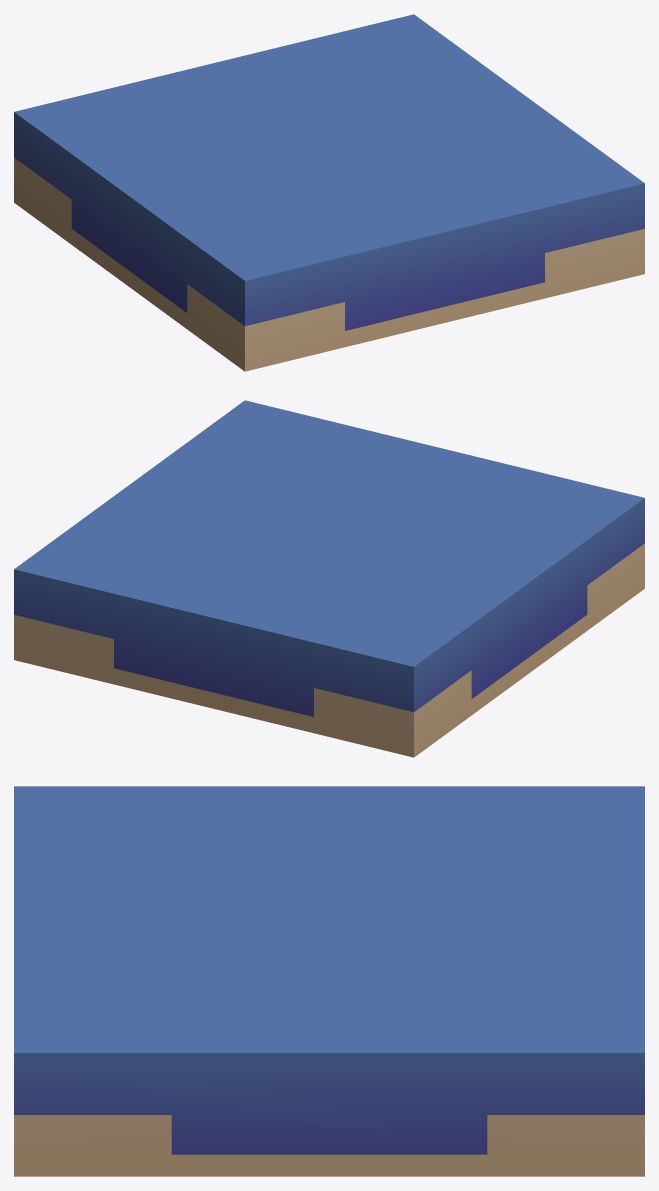
File: tower-square-mid-color.glb
3 renders of one model, top to bottom at view 1: azimuth 30°, elevation 25°; view 2: azimuth 150°, elevation 25°; view 3: azimuth 270°, elevation 25°, orthographic. The views are drawn at different scales.
Parts seen in each view (by area): view 1: tower-square-mid-color; view 2: tower-square-mid-color; view 3: tower-square-mid-color.
Boxes of the visible parts, <box> form: tower-square-mid-color: <box>14,14,644,371</box>; tower-square-mid-color: <box>14,400,644,757</box>; tower-square-mid-color: <box>14,786,644,1176</box>.
Bounding box in the file's own units: 0.93 × 0.2016 × 0.93.
